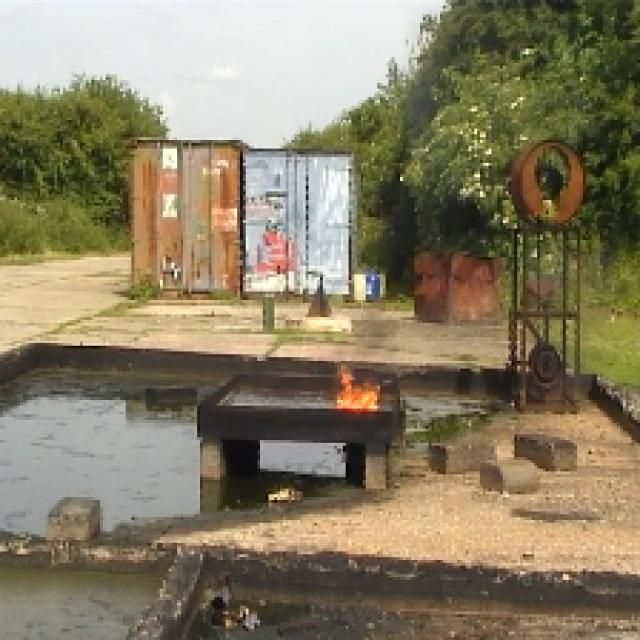Fire: (335, 378, 378, 412)
